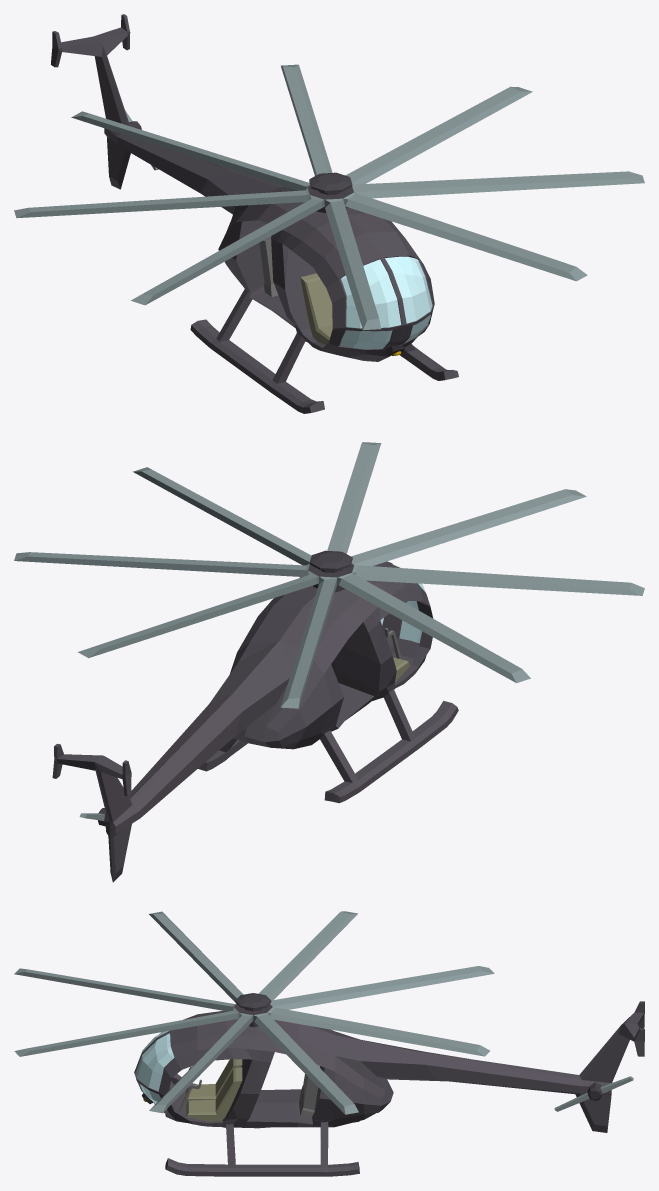
File: helicopter.fbx
The picture shows the model from 3 angles, top to bottom: view 1: azimuth 30°, elevation 25°; view 2: azimuth 150°, elevation 25°; view 3: azimuth 270°, elevation 25°; orthographic projection. The views are drawn at different scales.
Parts seen in each view (by area): view 1: Plane, Cylinder, Cube; view 2: Plane, Cylinder; view 3: Plane, Cylinder, Cube, Cylinder.001.
Part boxes in pixels (x1,y1,x2,y2): Plane: (51, 14, 458, 413); Cylinder: (14, 64, 644, 330); Cube: (339, 256, 432, 349); Plane: (52, 561, 458, 882); Cylinder: (14, 442, 644, 708); Plane: (134, 1001, 644, 1176); Cylinder: (14, 911, 494, 1114); Cube: (135, 1030, 174, 1109); Cylinder.001: (554, 1076, 633, 1111).
Bounding box in the file's own units: 790 × 270 × 1034.
